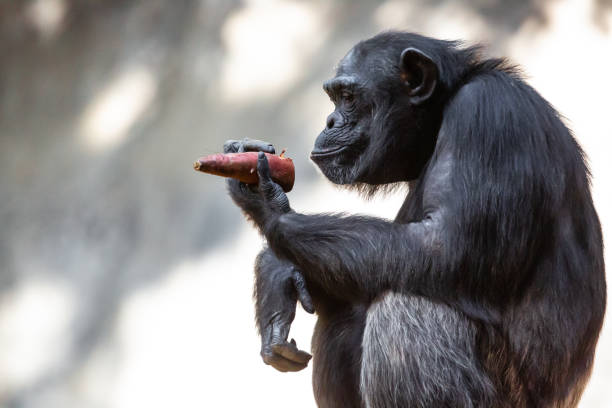chimpanzee: (301, 17, 527, 201)
